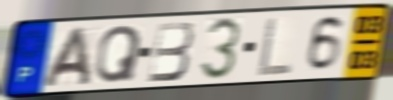3: (197, 16, 243, 83)
6: (304, 14, 347, 73)
A: (39, 25, 94, 90)
B: (146, 19, 196, 85)
L: (255, 15, 295, 79)
Q: (93, 23, 144, 85)
